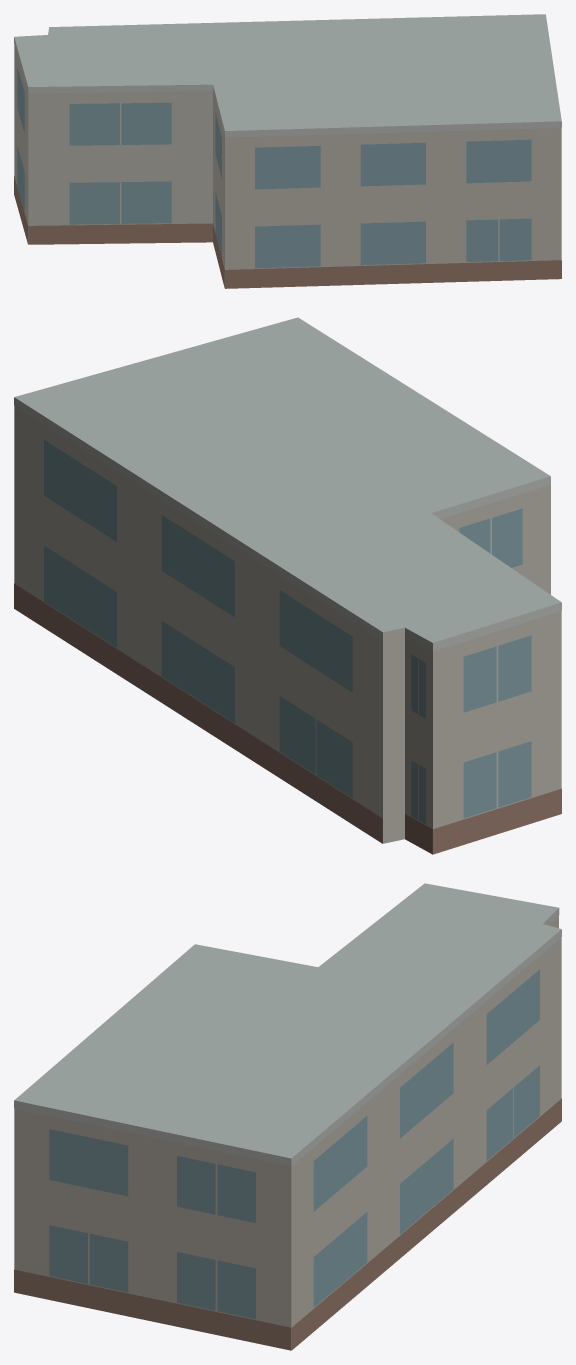
File: survey-upis-32888531.glb
3 renders of one model, top to bottom at view 1: azimuth 30°, elevation 25°; view 2: azimuth 150°, elevation 25°; view 3: azimuth 270°, elevation 25°, orthographic. The views are drawn at different scales.
Visible parts, largest first — view 1: survey-upis-32888531.tmp; view 2: survey-upis-32888531.tmp; view 3: survey-upis-32888531.tmp.
Part boxes in pixels (left/top/right/bottom): survey-upis-32888531.tmp: left=14, top=14, right=561, bottom=288; survey-upis-32888531.tmp: left=14, top=317, right=561, bottom=854; survey-upis-32888531.tmp: left=14, top=883, right=561, bottom=1350.
Bounding box in the file's own units: 18.44 × 6 × 15.51.
